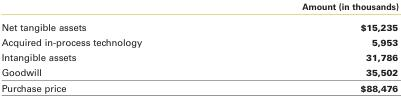table: (0, 1, 397, 92)
table column: (0, 1, 221, 92), (221, 1, 397, 92)
table column header: (0, 1, 397, 16)
table row: (0, 16, 397, 34), (0, 1, 397, 16), (0, 34, 397, 49), (0, 49, 397, 64), (0, 64, 397, 79), (0, 79, 397, 92)
